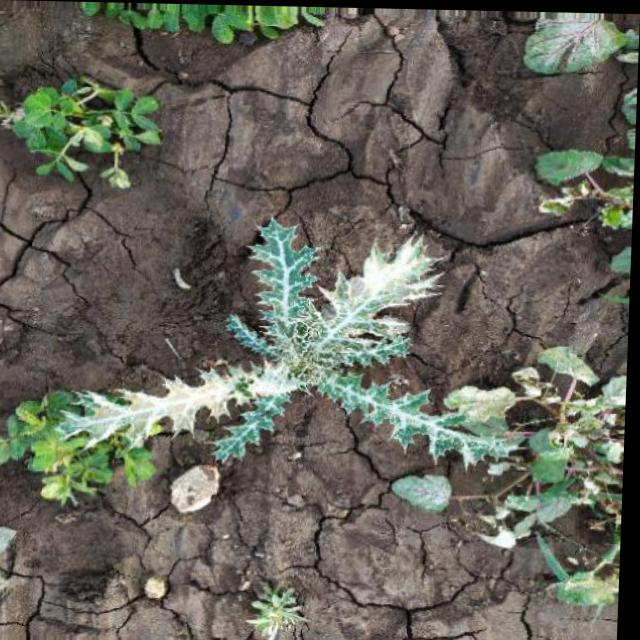weed: (0, 217, 581, 513), (1, 45, 165, 216)
